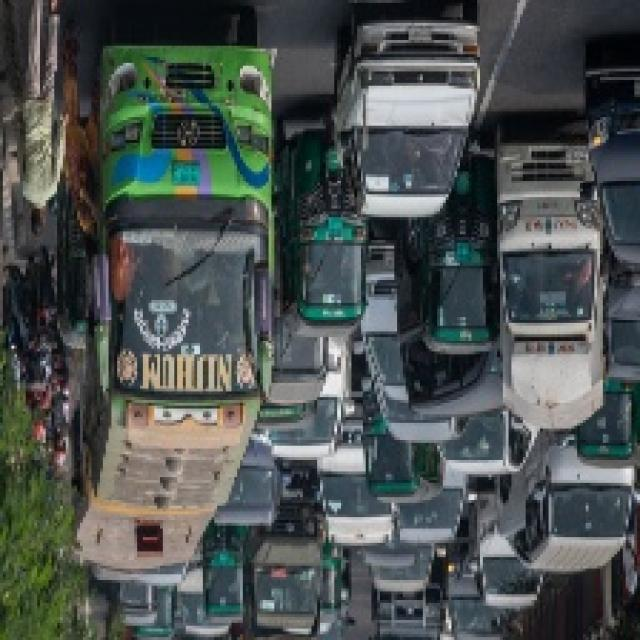car: (333, 10, 465, 219), (581, 31, 639, 280), (312, 418, 399, 552), (474, 491, 544, 607), (398, 452, 464, 549)
